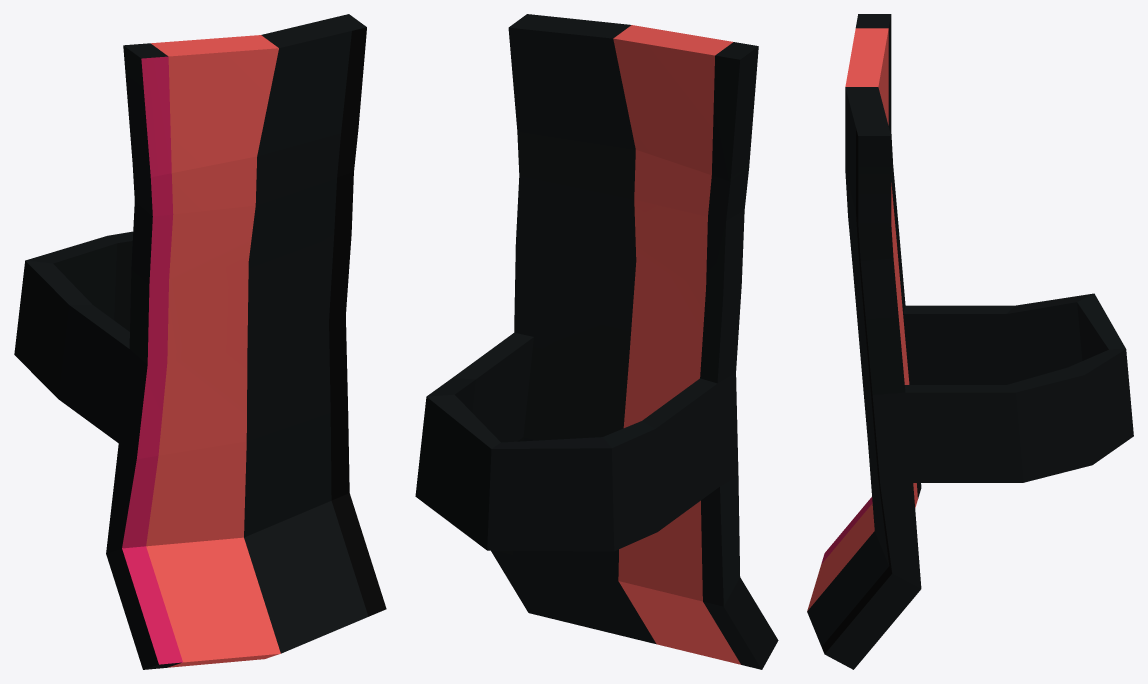
Rendered from Goalkeeper_1_Pad_Right.fbx.
3 renders of one model, left to right at view 1: azimuth 30°, elevation 25°; view 2: azimuth 150°, elevation 25°; view 3: azimuth 270°, elevation 25°, orthographic. The views are drawn at different scales.
Visible parts, largest first — view 1: Goalkeeper_1_Pad_Right; view 2: Goalkeeper_1_Pad_Right; view 3: Goalkeeper_1_Pad_Right.
Part boxes in pixels (<box>): Goalkeeper_1_Pad_Right: <box>14,14,386,669</box>; Goalkeeper_1_Pad_Right: <box>415,14,778,669</box>; Goalkeeper_1_Pad_Right: <box>807,14,1133,669</box>.
Bounding box in the file's own units: 21.68 × 56.29 × 29.58.
